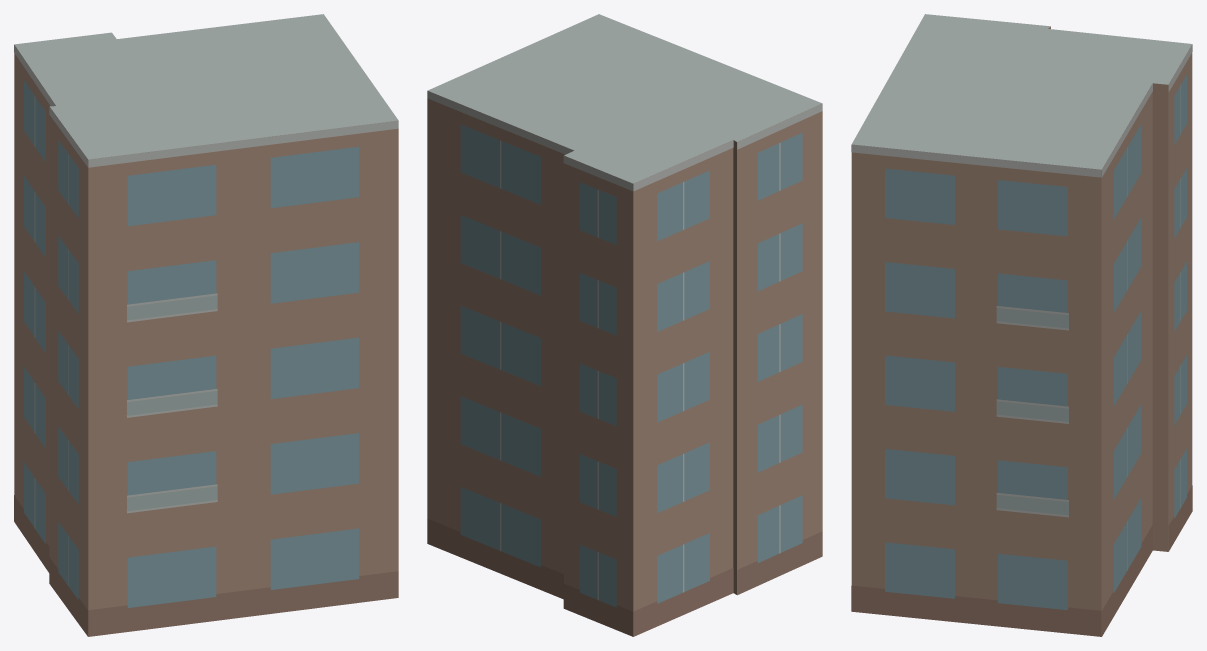
The model's file is survey-upis-32519541.glb.
The picture shows the model from 3 angles, left to right: view 1: azimuth 30°, elevation 25°; view 2: azimuth 150°, elevation 25°; view 3: azimuth 270°, elevation 25°; orthographic projection. The views are drawn at different scales.
Visible parts, largest first — view 1: survey-upis-32519541.tmp; view 2: survey-upis-32519541.tmp; view 3: survey-upis-32519541.tmp.
Boxes of the visible parts, box(x1,y1,x2,y2) form: survey-upis-32519541.tmp: box(14, 14, 398, 636); survey-upis-32519541.tmp: box(427, 14, 822, 636); survey-upis-32519541.tmp: box(851, 14, 1192, 636).
Bounding box in the file's own units: 10.26 × 14.35 × 9.5.
